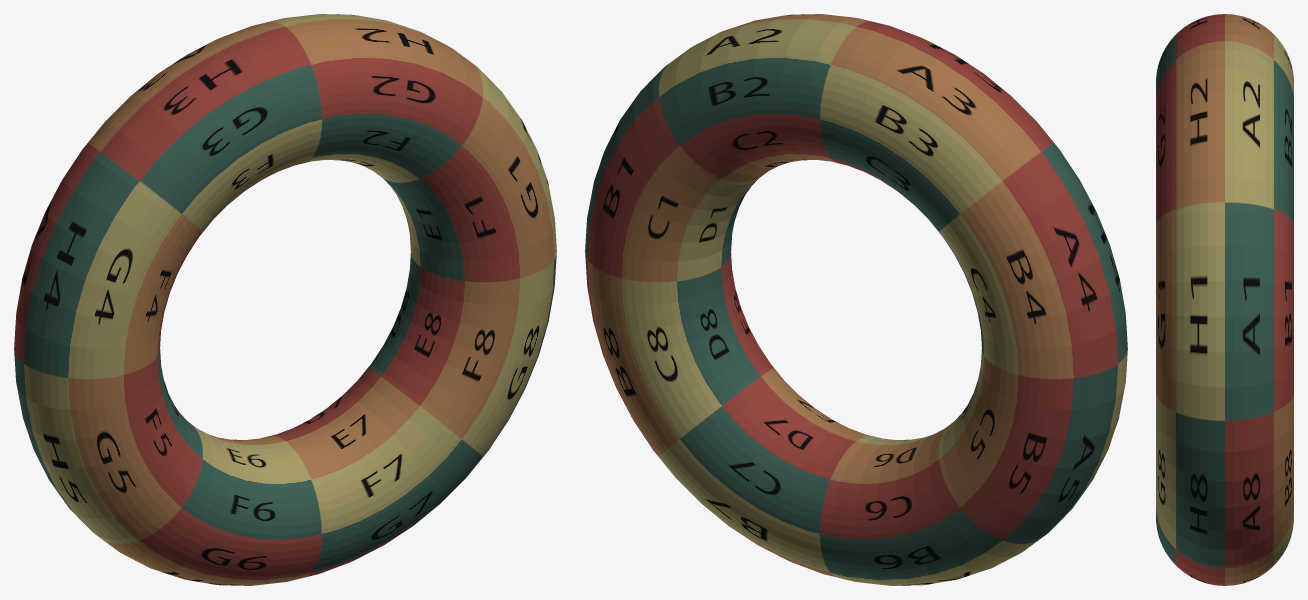
File: texture_torus_R17_r18.glb
3 views of the same model, side by side, from view 1: azimuth 30°, elevation 25°; view 2: azimuth 150°, elevation 25°; view 3: azimuth 270°, elevation 25° (orthographic). The views are drawn at different scales.
Visible parts, largest first — view 1: world; view 2: world; view 3: world.
Part boxes in pixels (left/top/right/bottom): world: left=14, top=14, right=556, bottom=585; world: left=585, top=14, right=1127, bottom=585; world: left=1156, top=14, right=1293, bottom=585.
Bounding box in the file's own units: 28.13 × 28.08 × 6.79.
Materials: 1 (1 with a texture image).
